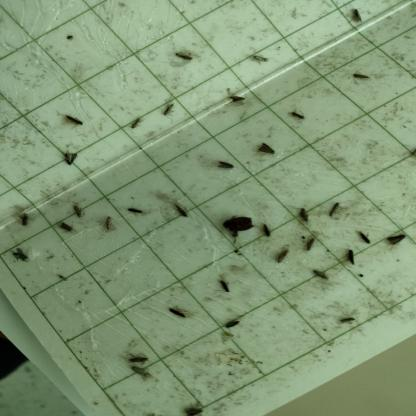prays_oleae: (348, 62, 378, 98), (220, 88, 252, 121), (383, 215, 406, 256), (169, 38, 198, 70), (325, 192, 350, 226), (124, 108, 150, 139), (158, 90, 178, 130), (124, 346, 151, 374), (272, 241, 295, 273), (252, 135, 278, 163), (62, 106, 88, 134), (173, 192, 193, 226), (166, 299, 190, 327), (290, 99, 310, 132), (11, 244, 30, 276), (302, 229, 322, 258), (127, 364, 153, 386), (215, 151, 237, 177), (71, 191, 86, 229), (311, 263, 331, 291), (121, 200, 142, 225), (254, 42, 270, 74), (61, 145, 77, 175), (344, 244, 359, 275), (59, 214, 75, 243), (338, 309, 358, 332), (102, 210, 118, 238), (260, 218, 275, 247), (16, 210, 33, 235), (216, 277, 236, 298), (184, 393, 204, 414), (298, 196, 312, 224), (345, 10, 368, 27), (226, 312, 243, 335), (359, 227, 372, 253)
